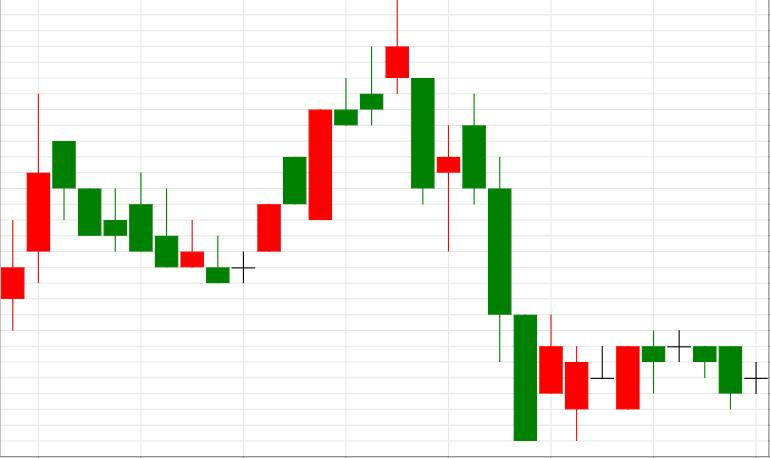shooting_star_fall: (232, 1, 408, 283)
